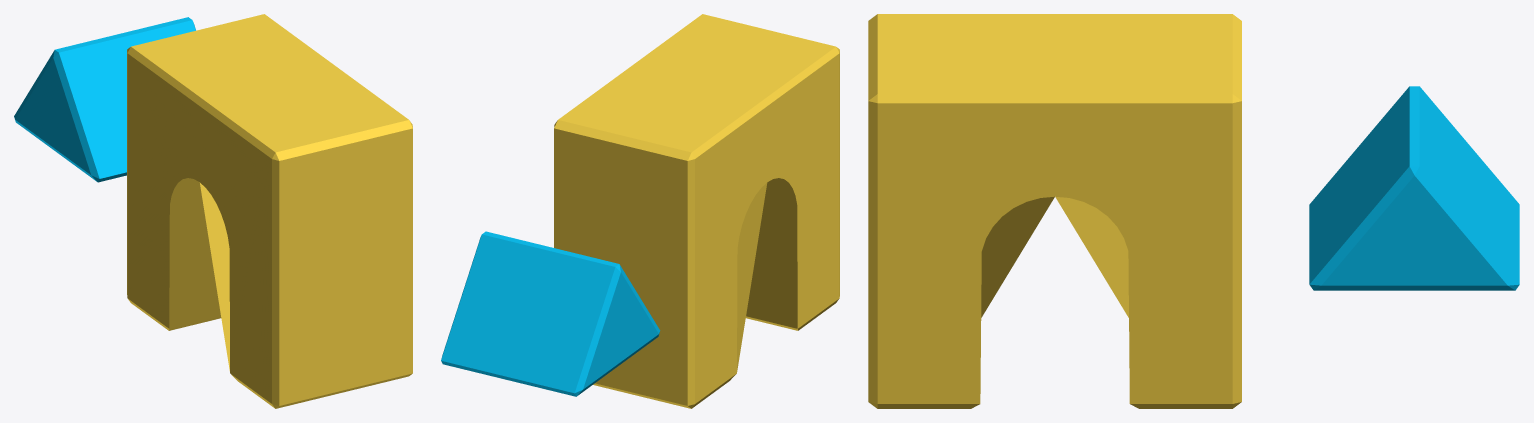
The model's file is blocks.fbx.
3 views of the same model, side by side, from view 1: azimuth 30°, elevation 25°; view 2: azimuth 150°, elevation 25°; view 3: azimuth 270°, elevation 25° (orthographic). The views are drawn at different scales.
Visible parts, largest first — view 1: Cube.009; view 2: Cube.009; view 3: Cube.009.
Part boxes in pixels (x1=…): Cube.009: x1=14, y1=14, x2=412, y2=408; Cube.009: x1=441, y1=14, x2=839, y2=408; Cube.009: x1=868, y1=14, x2=1519, y2=408.
Size of the model in its own units: 33.28 by 58 by 109.
